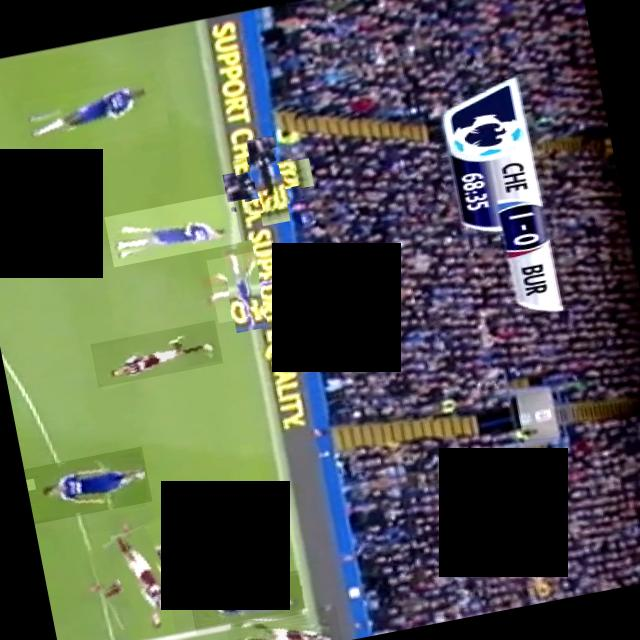ball: (25, 479, 35, 491)
referee: (231, 144, 304, 217)
soccer-player: (84, 518, 196, 630), (20, 75, 170, 158), (104, 192, 240, 268), (23, 446, 152, 524), (90, 321, 222, 388), (187, 570, 305, 635), (206, 248, 280, 324), (225, 605, 342, 640)
